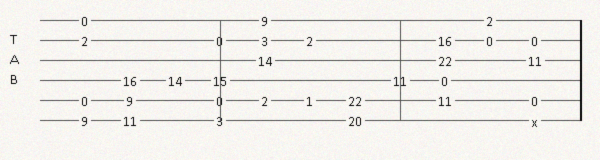0: (81, 94, 92, 107), (81, 14, 92, 27), (216, 94, 227, 107), (216, 34, 227, 47), (441, 74, 452, 87), (486, 34, 497, 47), (531, 34, 542, 47), (531, 94, 542, 107)
1: (306, 94, 317, 107)
11: (123, 114, 141, 127), (393, 74, 411, 87), (438, 94, 456, 107), (528, 54, 546, 67)
14: (168, 74, 186, 87), (258, 54, 276, 67)
15: (213, 74, 231, 87)
16: (123, 74, 141, 87), (438, 34, 456, 47)
2: (81, 34, 92, 47), (261, 94, 272, 107), (306, 34, 317, 47), (486, 14, 497, 27)
20: (348, 114, 366, 127)
22: (348, 94, 366, 107), (438, 54, 456, 67)
3: (216, 114, 227, 127), (261, 34, 272, 47)
9: (81, 114, 92, 127), (126, 94, 137, 107), (261, 14, 272, 27)
x: (531, 115, 542, 126)
